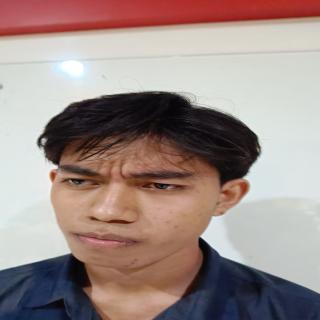Marah: (46, 127, 221, 278)
